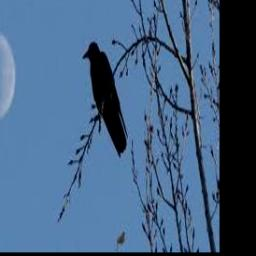Crow: (82, 40, 128, 159)
